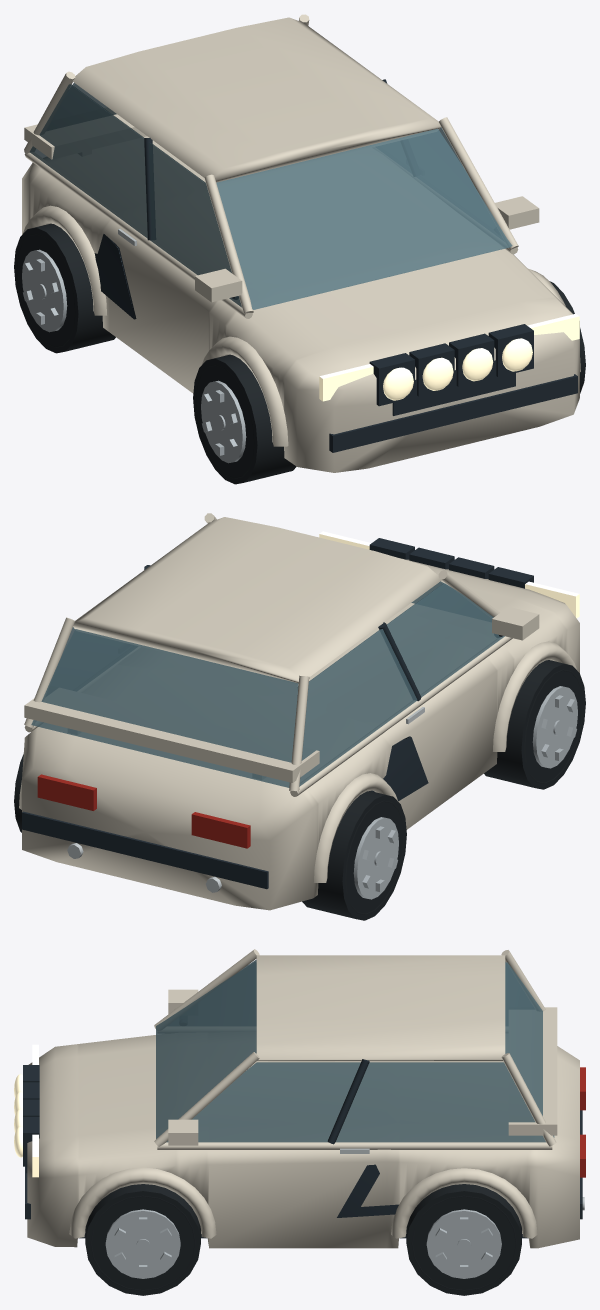
Rendered from turbine.glb.
The picture shows the model from 3 angles, top to bottom: view 1: azimuth 30°, elevation 25°; view 2: azimuth 150°, elevation 25°; view 3: azimuth 270°, elevation 25°; orthographic projection. The views are drawn at different scales.
Visible parts, largest first — view 1: exterior-paint, windows, black-trim, tire-front-left, tire-rear-left, headlights, rim-rear-left, rim-front-left; view 2: exterior-paint, windows, black-trim, tire-rear-left, tire-front-left, taillights, rim-rear-left, rim-front-left, headlights, chrome; view 3: exterior-paint, windows, tire-front-right, tire-rear-right, rim-rear-right, rim-front-right, black-trim, headlights, taillights.
Boxes of the visible parts, x1,y1,x2,y2 form: exterior-paint: (22,14,580,472); windows: (29,83,512,309); black-trim: (94,79,577,452); tire-front-left: (193,354,296,484); tire-rear-left: (14,223,115,353); headlights: (319,313,579,401); rim-rear-left: (22,249,67,332); rim-front-left: (201,380,246,463); exterior-paint: (19,513,579,910); windows: (31,581,504,787); black-trim: (22,538,533,889); tire-rear-left: (302,791,406,920); tire-front-left: (484,660,585,789); taillights: (37,774,250,848); rim-rear-left: (353,817,398,899); rim-front-left: (532,686,577,768); headlights: (319,531,579,618); chrome: (67,707,424,892); exterior-paint: (27,949,579,1248); windows: (156,959,554,1142); tire-front-right: (85,1184,200,1295); tire-rear-right: (406,1184,521,1295); rim-rear-right: (426,1209,501,1278); rim-front-right: (105,1209,180,1278); black-trim: (23,1059,582,1238); headlights: (14,1044,38,1177); taillights: (580,1067,585,1177).
Bounding box in the file's own units: 1.91 × 1.34 × 3.06.
